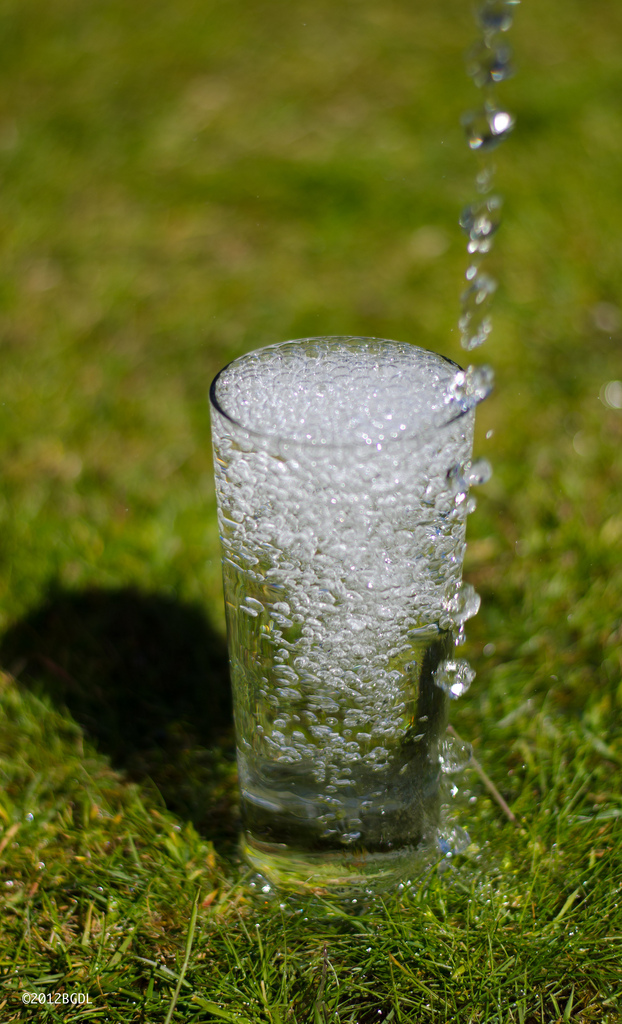glass of water: (206, 336, 470, 874)
